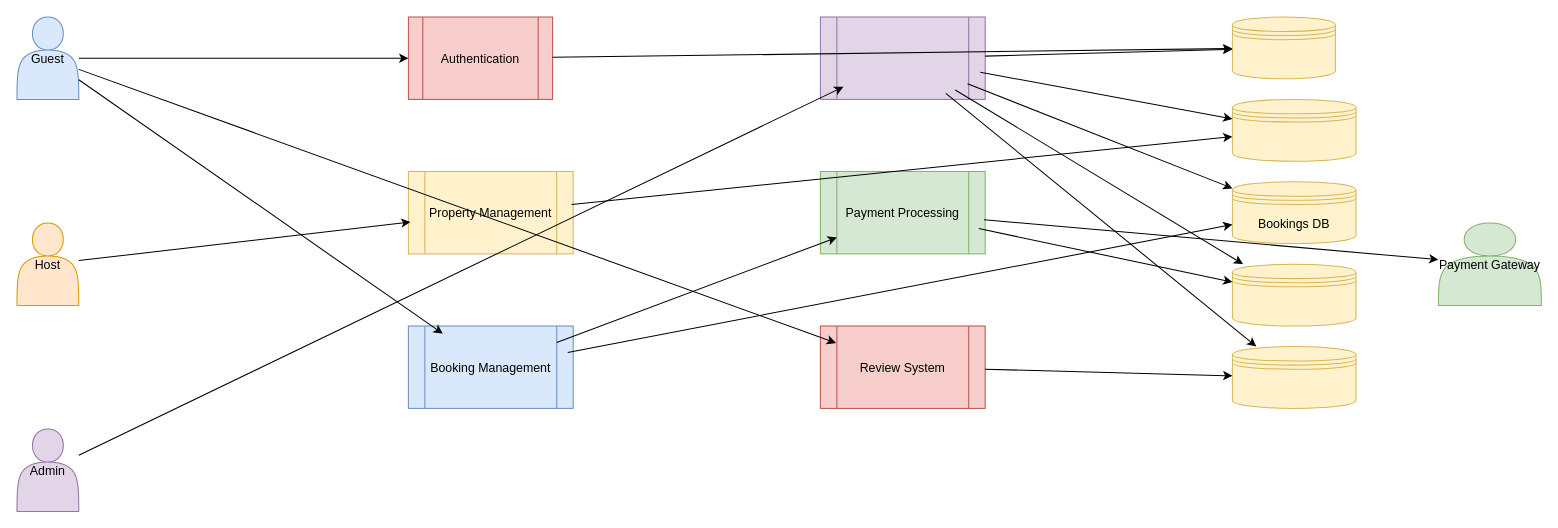
The diagram is 1558 pixels wide and 528 high, and some of its shapes have lost their labels. Here are the shapes that lost their labels. From the top down, the box of each, then its label:
(819, 16, 985, 99): Admin Management
(1231, 16, 1335, 79): Users DB
(1231, 98, 1356, 161): Properties DB
(1231, 263, 1356, 326): Payments DB
(1231, 346, 1356, 408): Reviews DB
